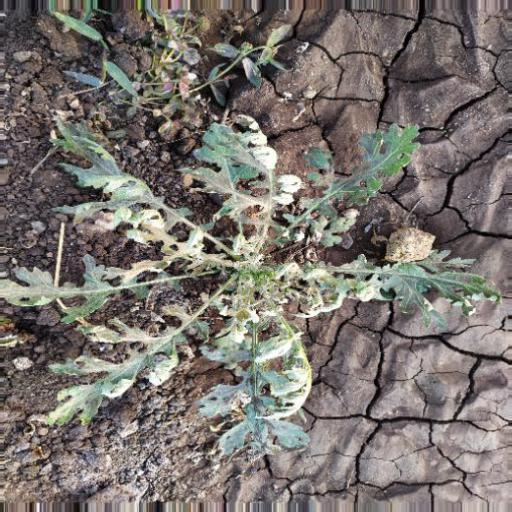weed: (19, 128, 500, 439)
